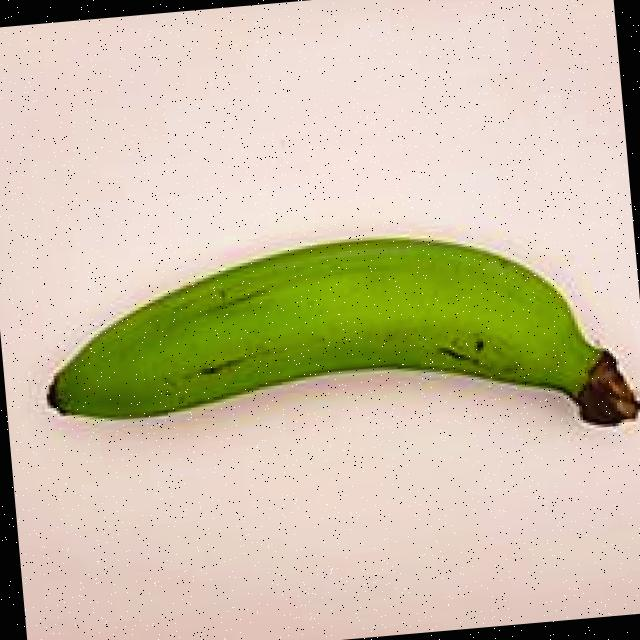Raw: (18, 174, 640, 522)
